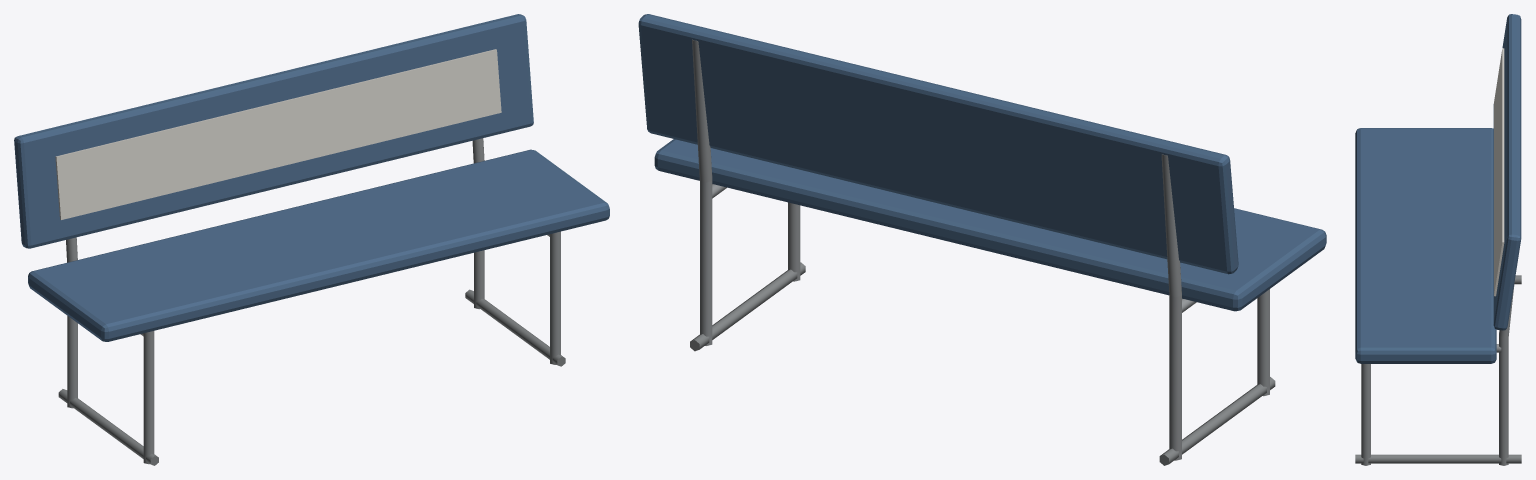
The model's file is prop_bench_01.glb.
The picture shows the model from 3 angles, left to right: view 1: azimuth 30°, elevation 25°; view 2: azimuth 150°, elevation 25°; view 3: azimuth 270°, elevation 25°; orthographic projection. The views are drawn at different scales.
Parts seen in each view (by area): view 1: prop_bench_01; view 2: prop_bench_01; view 3: prop_bench_01.
Boxes of the visible parts, x1,y1,x2,y2 form: prop_bench_01: (14,14,609,465); prop_bench_01: (638,14,1326,465); prop_bench_01: (1355,14,1521,465).
Bounding box in the file's own units: 1.5 × 0.7797 × 0.47.
